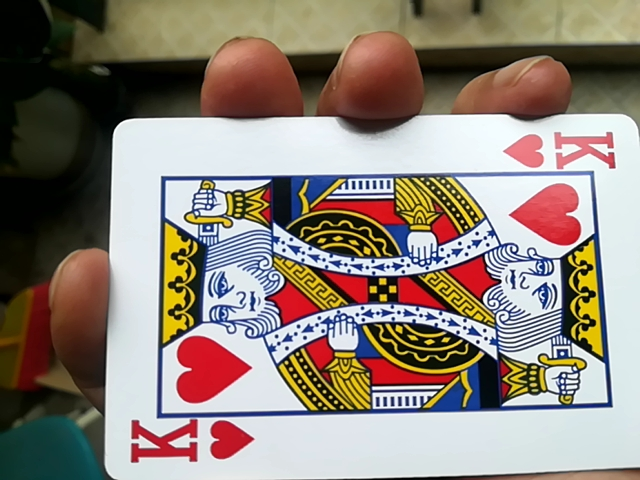hx k: (102, 118, 636, 480)
